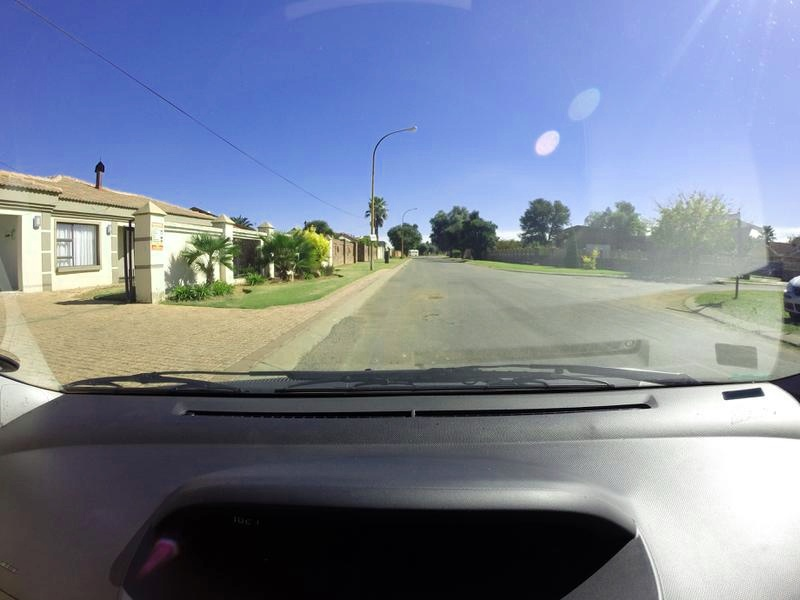pothole: (421, 287, 458, 306)
